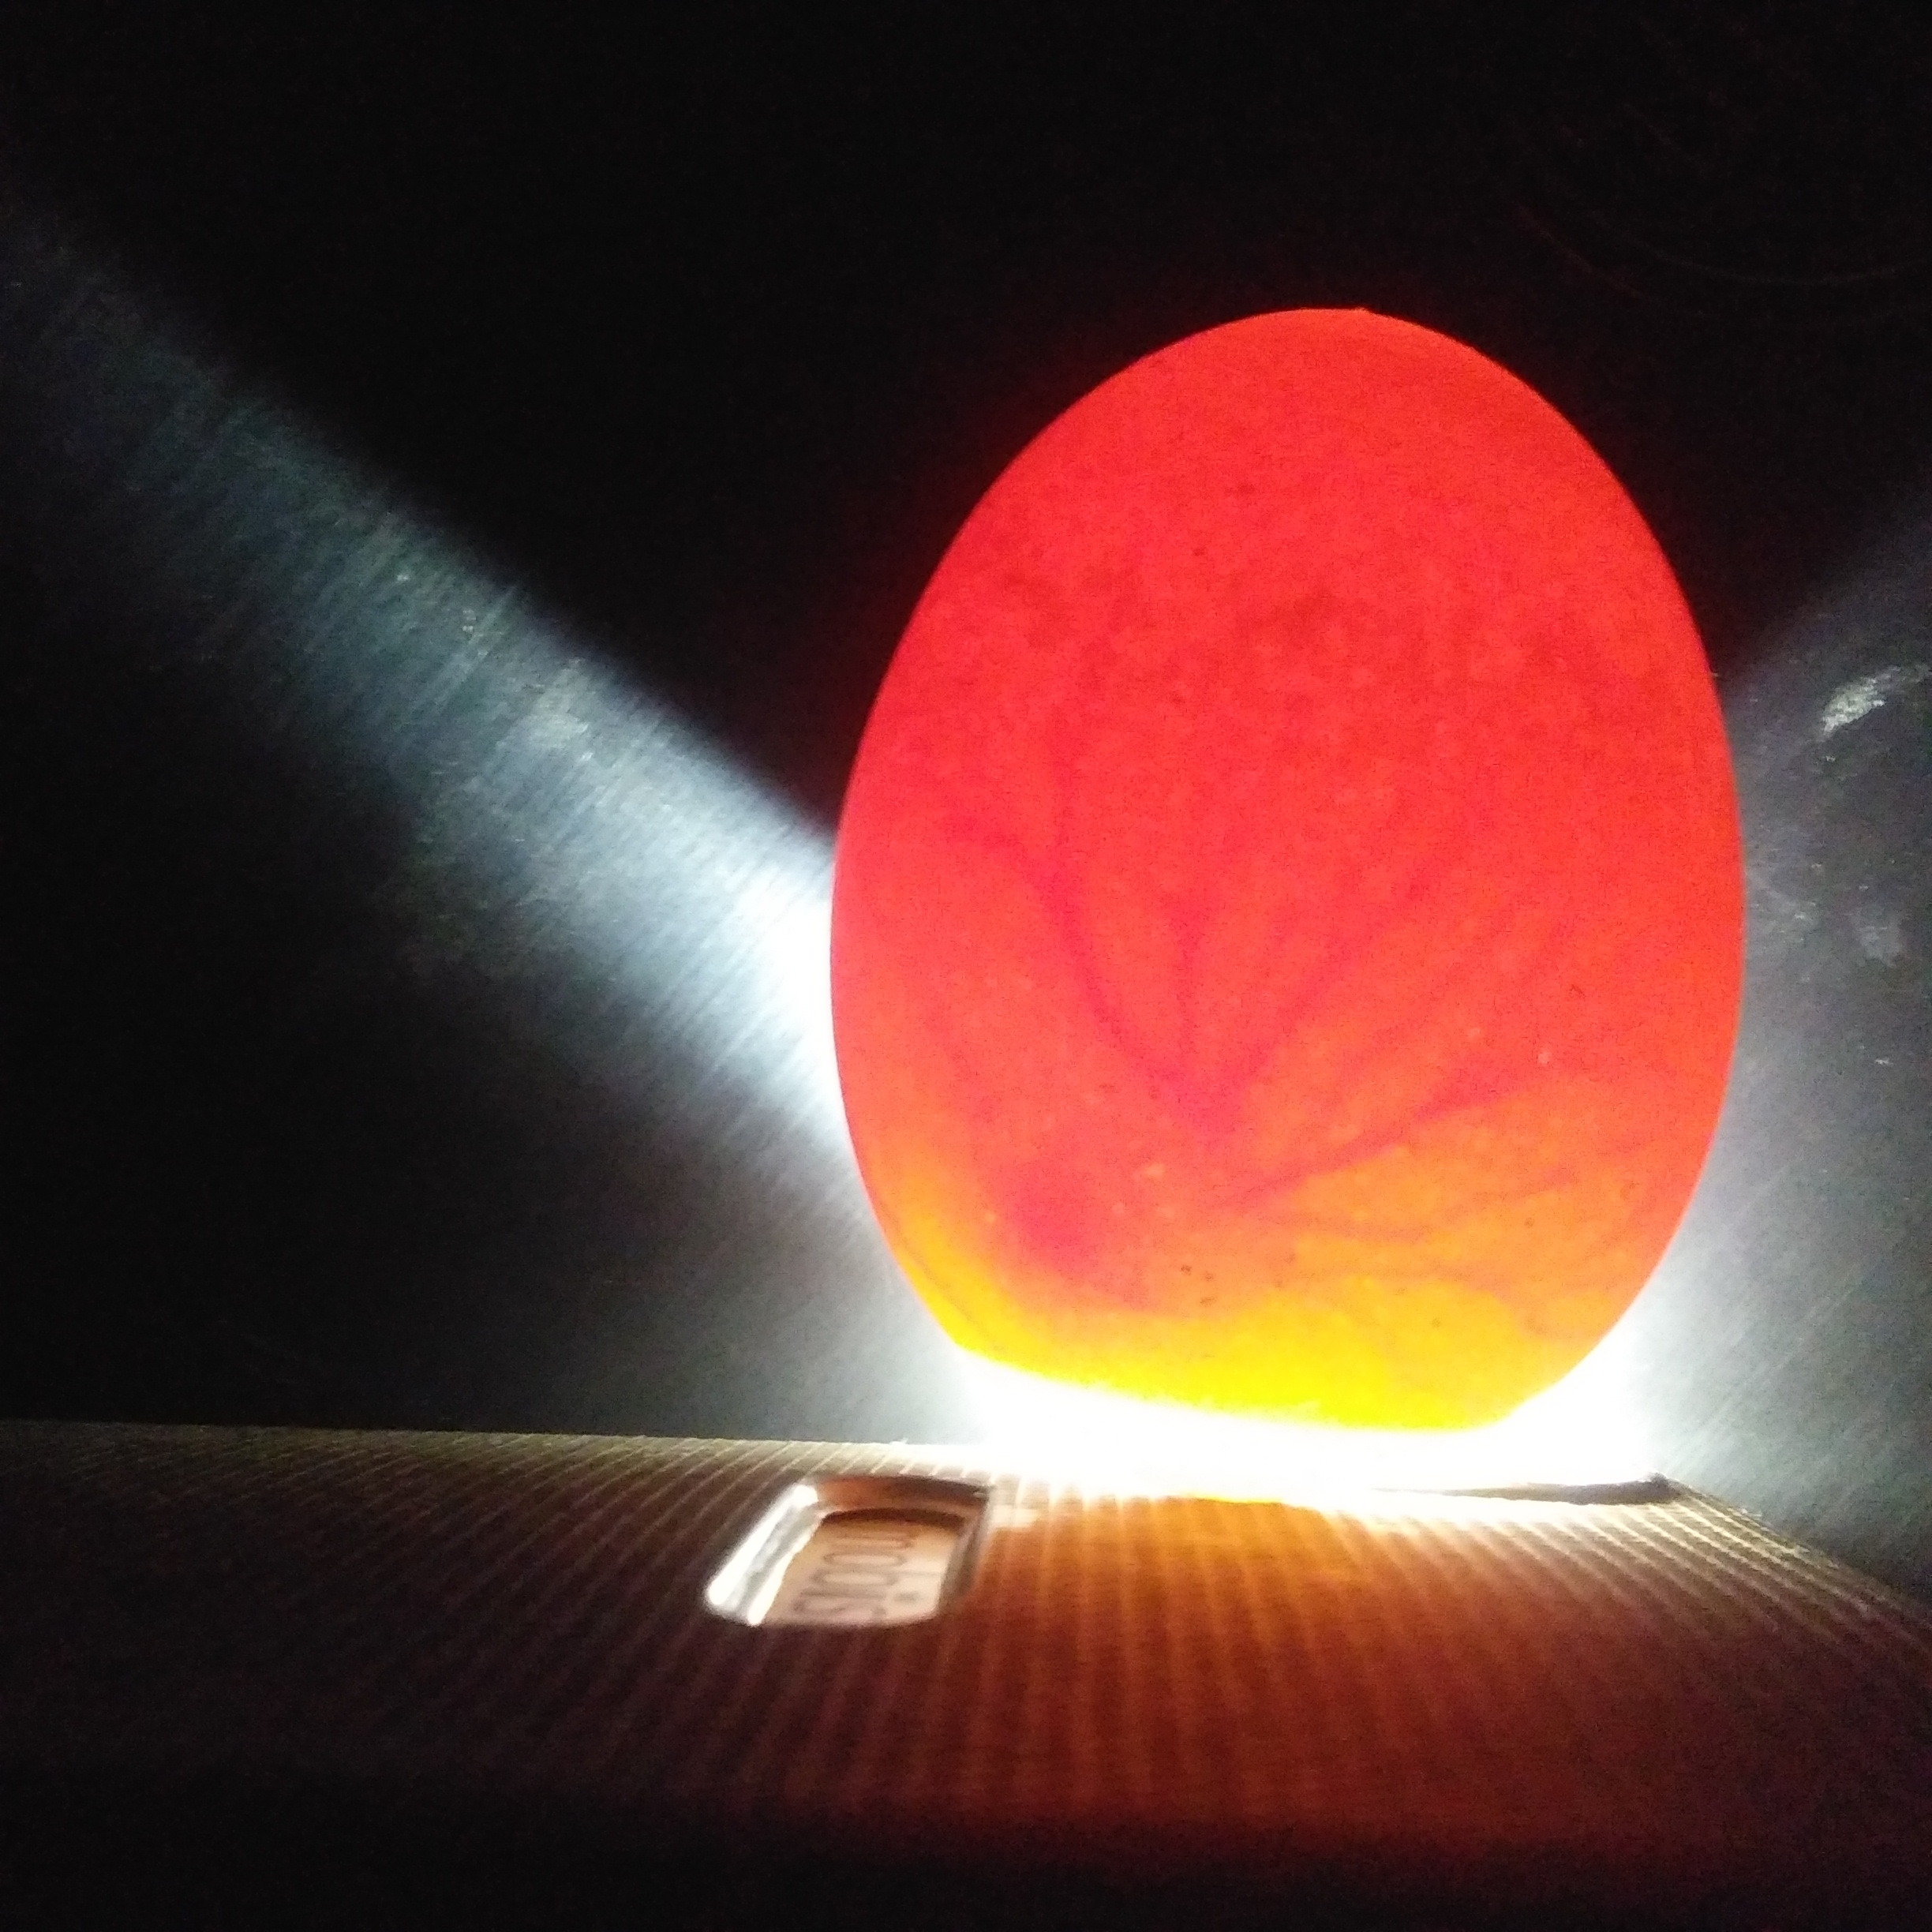bloodcell: (1077, 964, 1661, 1171)
embryo: (1003, 1200, 1182, 1292)
